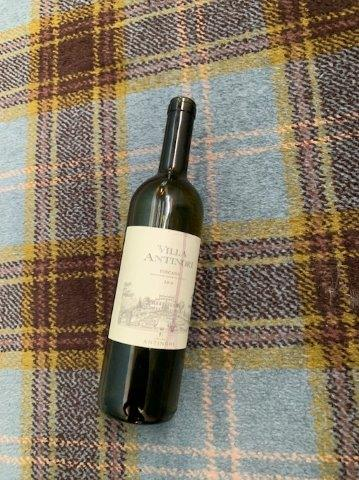botolkaca: (99, 97, 203, 426)
